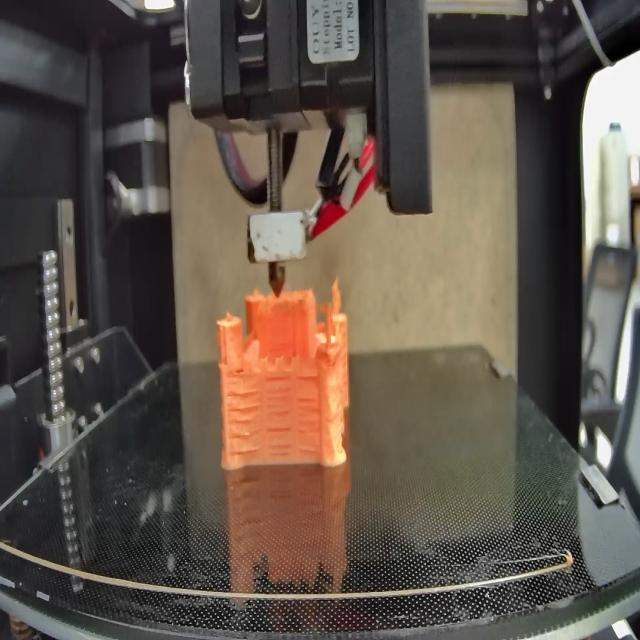cracks: (228, 390, 262, 456), (296, 393, 320, 459), (267, 373, 291, 420), (267, 426, 296, 459), (235, 362, 247, 378), (296, 374, 320, 382)
